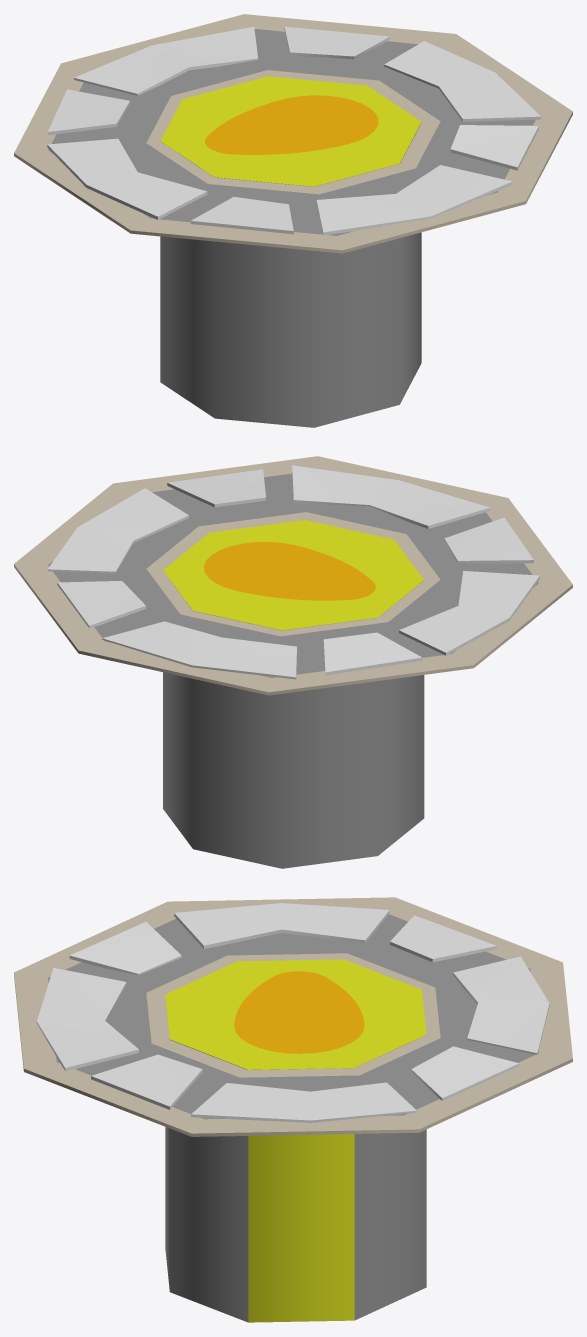
The model's file is Receptacle_Oeuf_Retouche.FBX.
3 renders of one model, top to bottom at view 1: azimuth 30°, elevation 25°; view 2: azimuth 150°, elevation 25°; view 3: azimuth 270°, elevation 25°, orthographic. The views are drawn at different scales.
Visible parts, largest first — view 1: Cylinder232, Cylinder231, Box996, Egg024; view 2: Cylinder232, Cylinder231, Box996, Egg024; view 3: Cylinder232, Cylinder231, Box996, Egg024.
Part boxes in pixels (x1,y1,x2,y2): Cylinder232: (160, 76, 421, 427); Cylinder231: (14, 14, 572, 253); Box996: (47, 26, 541, 235); Egg024: (205, 95, 378, 154); Cylinder232: (163, 520, 424, 868); Cylinder231: (14, 456, 572, 695); Box996: (47, 465, 539, 679); Egg024: (203, 542, 375, 600); Cylinder232: (165, 959, 426, 1322); Cylinder231: (14, 897, 572, 1136); Box996: (36, 903, 549, 1122); Egg024: (234, 971, 364, 1053).
Size of the model in its own units: 118 by 61.2 by 118.
